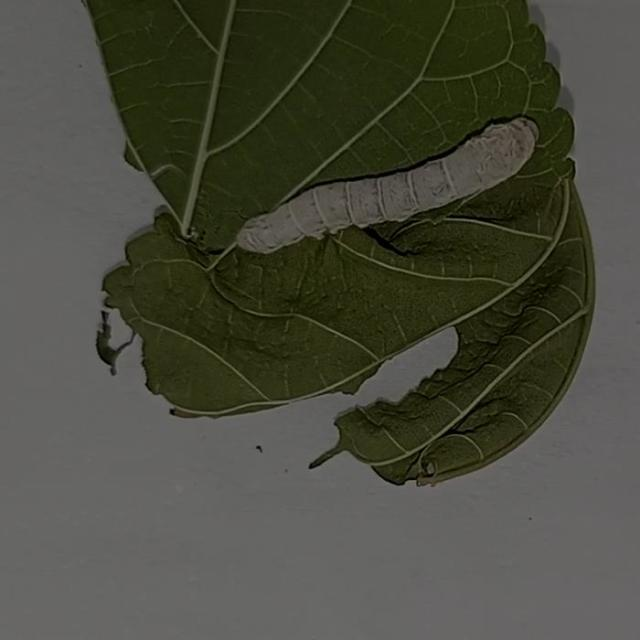Healthy: (221, 96, 560, 255)
